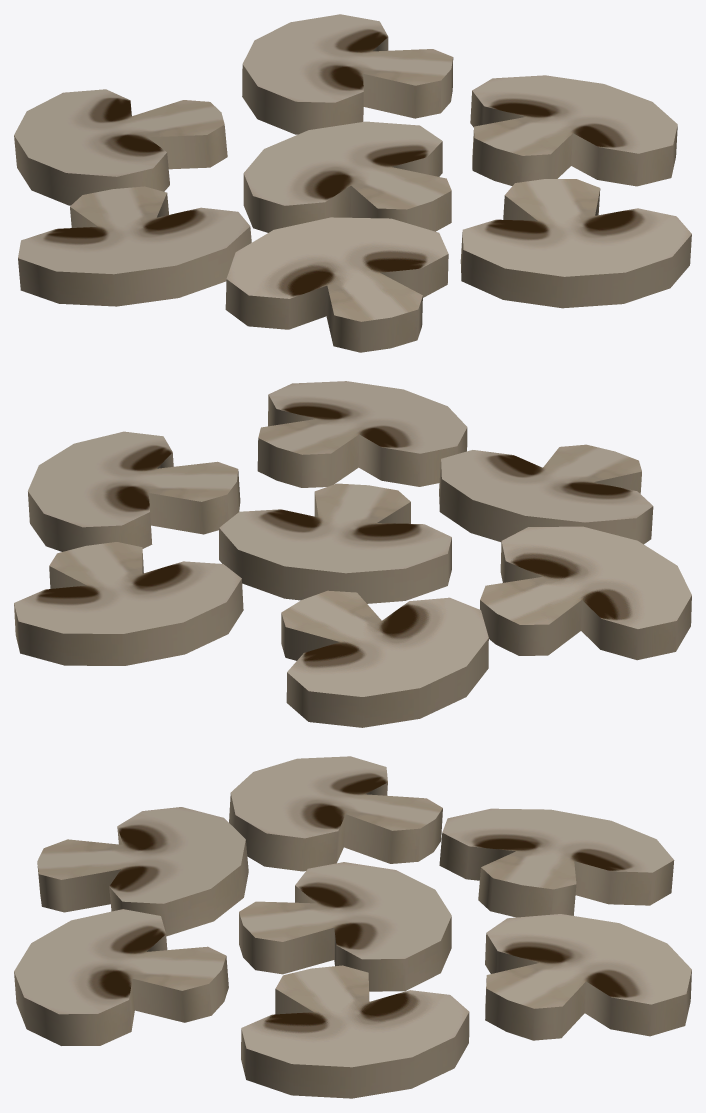
The model's file is Pizza_Mushroom_Raw.fbx.
3 renders of one model, top to bottom at view 1: azimuth 30°, elevation 25°; view 2: azimuth 150°, elevation 25°; view 3: azimuth 270°, elevation 25°, orthographic.
Parts seen in each view (by area): view 1: Pizza_Mushroom_Raw; view 2: Pizza_Mushroom_Raw; view 3: Pizza_Mushroom_Raw.
Part boxes in pixels (x1,y1,x2,y2): Pizza_Mushroom_Raw: [14, 14, 691, 352]; Pizza_Mushroom_Raw: [14, 381, 691, 727]; Pizza_Mushroom_Raw: [14, 756, 691, 1098].
Size of the model in its own units: 0.6879 by 0.0555 by 0.6326.
1 material, 1 textured.
